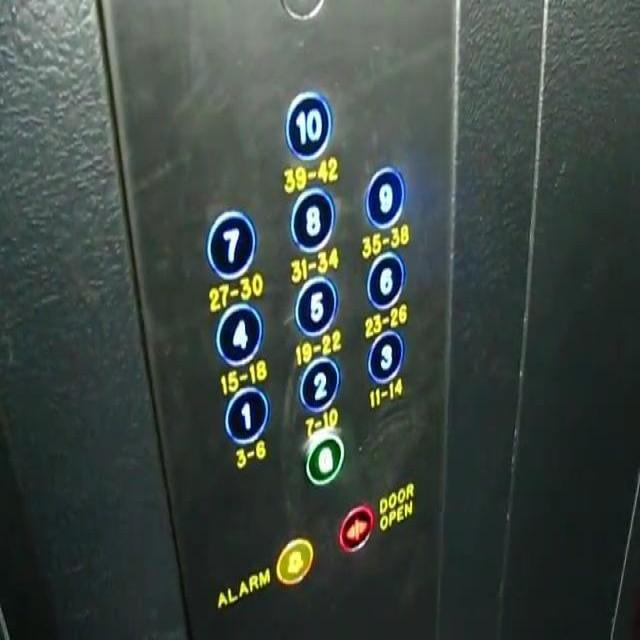1: (222, 384, 270, 447)
10: (281, 88, 334, 161)
2: (298, 353, 339, 412)
3: (365, 327, 406, 385)
4: (213, 298, 263, 366)
5: (292, 272, 337, 336)
6: (363, 250, 405, 310)
7: (204, 205, 257, 279)
8: (288, 184, 335, 253)
9: (361, 161, 408, 231)
G: (302, 427, 343, 485)
alarm: (274, 534, 314, 586)
open: (336, 503, 373, 553)
